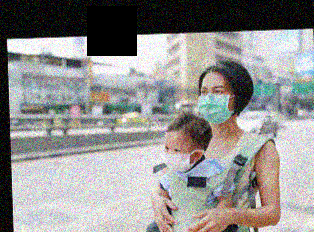with_mask: (196, 83, 234, 125), (160, 140, 194, 173)
